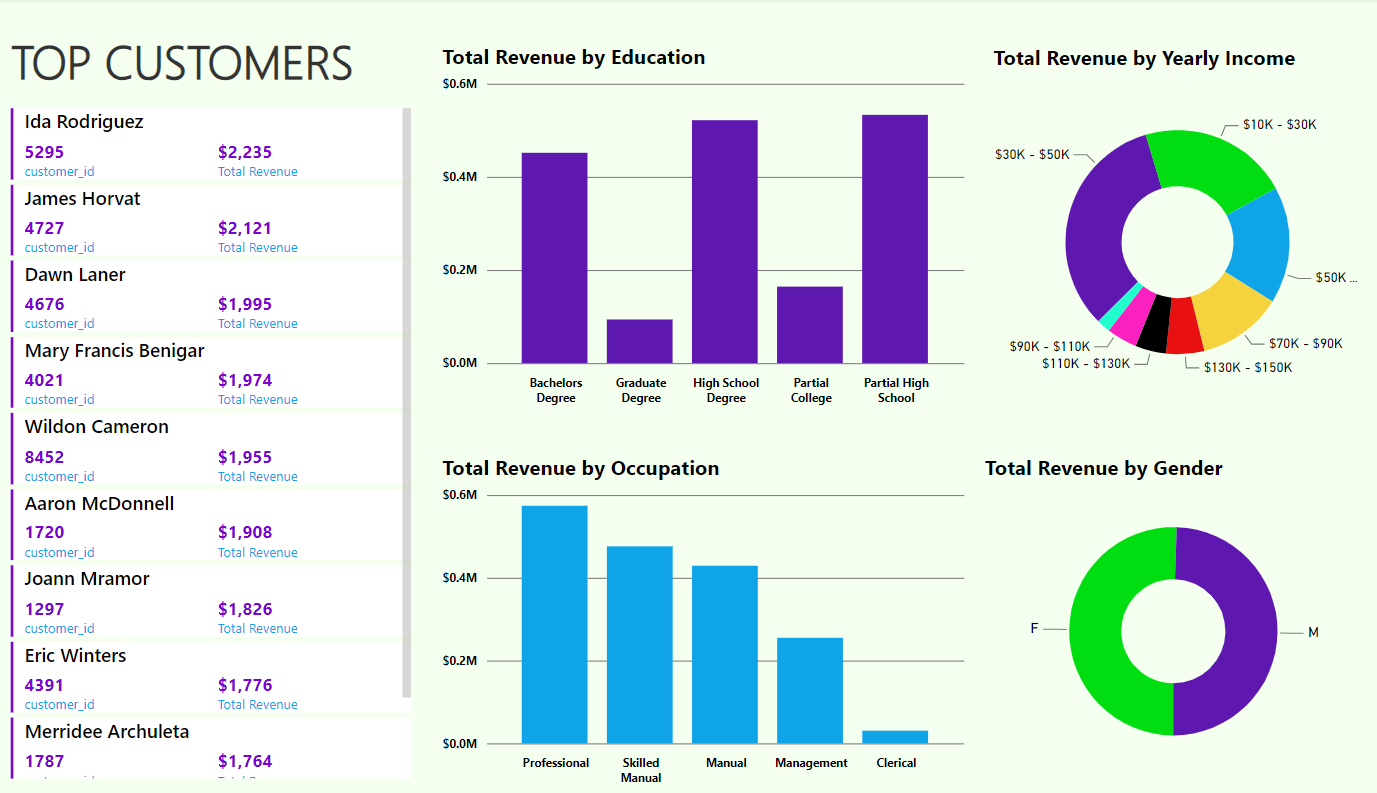

What the dashboard file says about the page in this screenshot:
{"tool":"powerbi","page":{"name":"Customers","canvas":[1280,720],"ordinal":3},"visuals":[{"type":"donutChart","title":"Total Revenue by Yearly Income","fields":{"Category":["Customers.yearly_income"],"Y":["Transaction_Data.Total Revenue"]},"box":[914.5,18,348.8,341.6],"z":0},{"type":"clusteredColumnChart","title":"Total Revenue by Occupation","fields":{"Category":["Customers.occupation"],"Y":["Transaction_Data.Total Revenue"]},"box":[407.5,395.5,490.2,314],"z":1000},{"type":"clusteredColumnChart","title":"Total Revenue by Education","fields":{"Category":["Customers.education"],"Y":["Transaction_Data.Total Revenue"]},"box":[407.5,17.5,490,342.5],"z":2000},{"type":"multiRowCard","fields":{"Values":["Customers.full_name","Customers.customer_id","Transaction_Data.Total Revenue"]},"box":[12,73.1,377.5,625.6],"z":3000},{"type":"donutChart","title":"Total Revenue by Gender","fields":{"Category":["Customers.gender"],"Y":["Transaction_Data.Total Revenue"]},"box":[906.1,395.5,357.2,303.2],"z":4000},{"type":"textbox","box":[12,0,352.4,73.1],"z":5000}]}

Visuals, with their boxes in screenshot pixels (x1, y1, x2, y2), scaled from the page's 1280x720 canvas onto the 1377x793 screenshot:
"Total Revenue by Yearly Income" donutChart: 984, 20, 1359, 396
"Total Revenue by Occupation" clusteredColumnChart: 438, 436, 966, 781
"Total Revenue by Education" clusteredColumnChart: 438, 19, 966, 397
multiRowCard - Customers.full_name x Customers.customer_id: 13, 81, 419, 770
"Total Revenue by Gender" donutChart: 975, 436, 1359, 770
textbox: 13, 0, 392, 81
